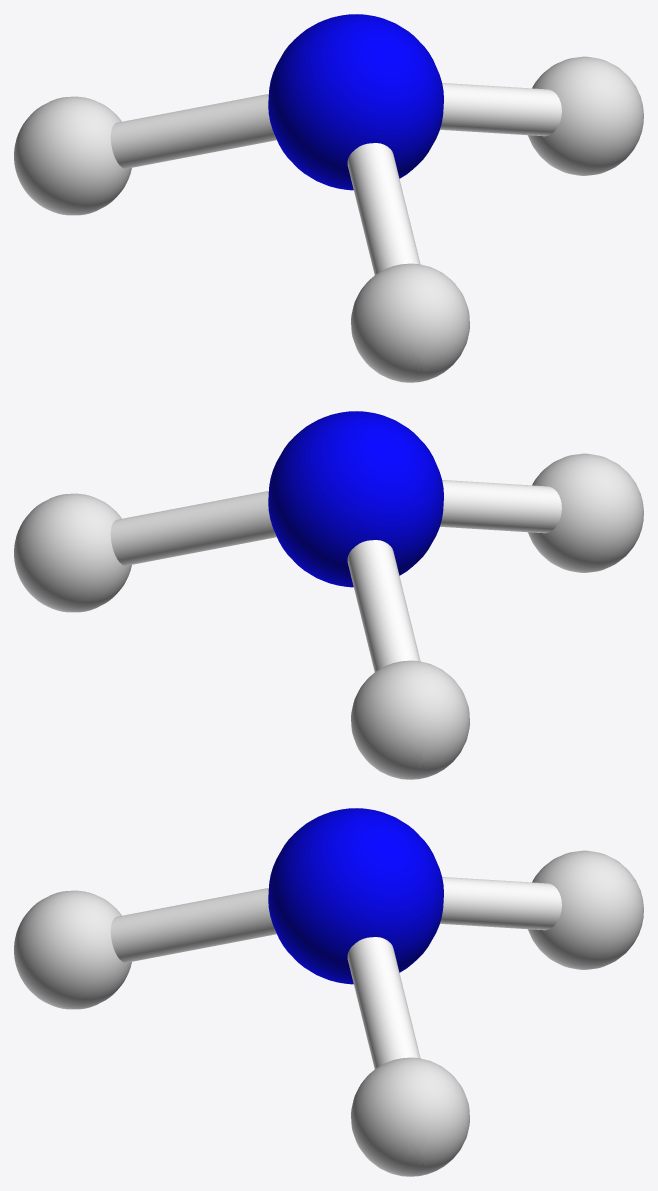
File: Ammonia.dae
3 views of the same model, one above another, from view 1: azimuth 30°, elevation 25°; view 2: azimuth 150°, elevation 25°; view 3: azimuth 270°, elevation 25° (orthographic).
Visible parts, largest first — view 1: Ammonia_Ammonia1_Ammonia_Ammonia__Methane_Import_pCylinder7_ (×4), Ammonia_Ammonia1, Ammonia_Ammonia1_Ammonia_Ammonia__Methane_Import_pCylinder6_, Ammonia_Ammonia1_Ammonia_Ammonia__Methane_Import_pCylinder6; view 2: Ammonia_Ammonia1_Ammonia_Ammonia__Methane_Import_pCylinder7_ (×4), Ammonia_Ammonia1, Ammonia_Ammonia1_Ammonia_Ammonia__Methane_Import_pCylinder6_, Ammonia_Ammonia1_Ammonia_Ammonia__Methane_Import_pCylinder6; view 3: Ammonia_Ammonia1_Ammonia_Ammonia__Methane_Import_pCylinder7_ (×4), Ammonia_Ammonia1, Ammonia_Ammonia1_Ammonia_Ammonia__Methane_Import_pCylinder6_, Ammonia_Ammonia1_Ammonia_Ammonia__Methane_Import_pCylinder6.
Boxes of the visible parts, bbox=[...] form: Ammonia_Ammonia1_Ammonia_Ammonia__Methane_Import_pCylinder7_ (×4): bbox=[347, 56, 643, 382]; Ammonia_Ammonia1: bbox=[268, 14, 443, 190]; Ammonia_Ammonia1_Ammonia_Ammonia__Methane_Import_pCylinder6_: bbox=[14, 96, 131, 215]; Ammonia_Ammonia1_Ammonia_Ammonia__Methane_Import_pCylinder6: bbox=[110, 94, 276, 168]; Ammonia_Ammonia1_Ammonia_Ammonia__Methane_Import_pCylinder7_ (×4): bbox=[14, 453, 643, 612]; Ammonia_Ammonia1: bbox=[268, 411, 443, 587]; Ammonia_Ammonia1_Ammonia_Ammonia__Methane_Import_pCylinder6_: bbox=[351, 660, 469, 779]; Ammonia_Ammonia1_Ammonia_Ammonia__Methane_Import_pCylinder6: bbox=[347, 540, 420, 672]; Ammonia_Ammonia1_Ammonia_Ammonia__Methane_Import_pCylinder7_ (×4): bbox=[14, 888, 469, 1176]; Ammonia_Ammonia1: bbox=[268, 808, 443, 984]; Ammonia_Ammonia1_Ammonia_Ammonia__Methane_Import_pCylinder6_: bbox=[528, 850, 643, 969]; Ammonia_Ammonia1_Ammonia_Ammonia__Methane_Import_pCylinder6: bbox=[440, 877, 561, 930].
Bounding box in the file's own units: 1.37 × 1.42 × 0.5719.
